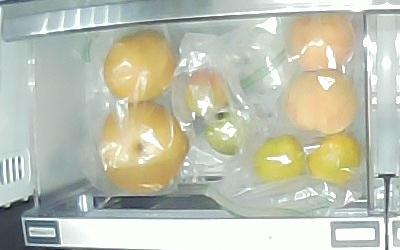peach_vinyl: (285, 69, 358, 134), (288, 13, 357, 72)
pear_vinyl: (98, 103, 190, 194), (104, 30, 177, 103)
tangerine_vinyl: (308, 132, 361, 185), (254, 136, 307, 181)
tomato_vinyl: (183, 67, 229, 117), (206, 111, 245, 156)
